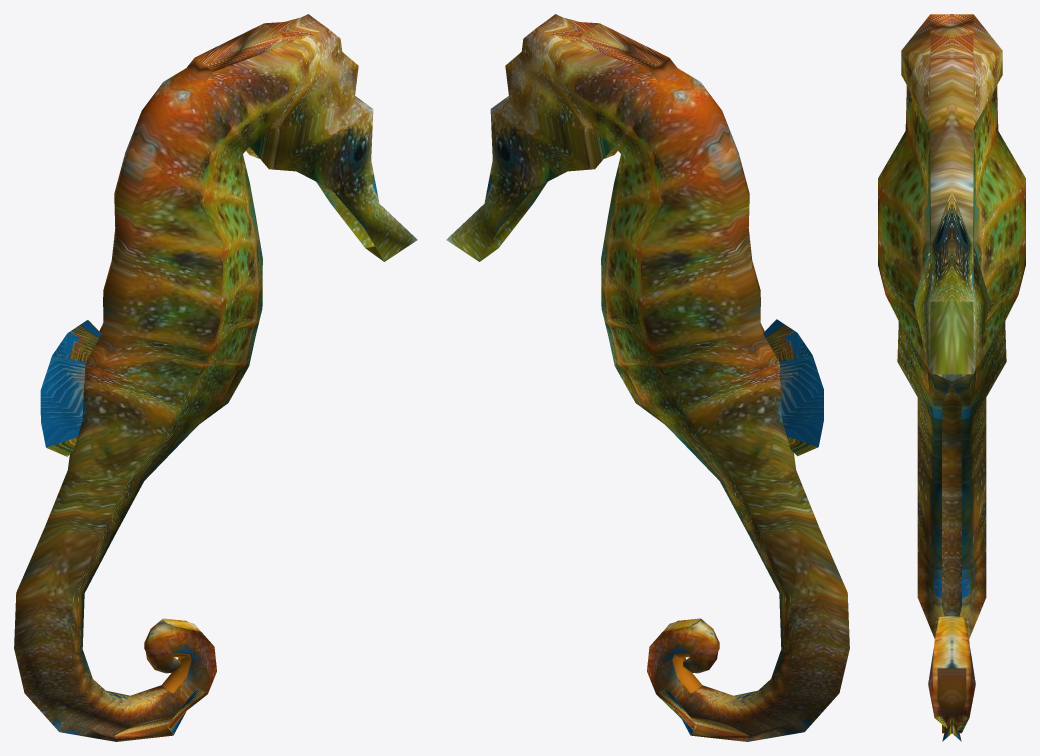
Rendered from CaballitoMar.fbx.
The picture shows the model from 3 angles, left to right: view 1: azimuth 30°, elevation 25°; view 2: azimuth 150°, elevation 25°; view 3: azimuth 270°, elevation 25°; orthographic projection. The views are drawn at different scales.
Visible parts, largest first — view 1: CaballitoMar; view 2: CaballitoMar; view 3: CaballitoMar.
Part boxes in pixels (left/top/right/bottom): CaballitoMar: left=14, top=14, right=417, bottom=741; CaballitoMar: left=446, top=14, right=849, bottom=741; CaballitoMar: left=878, top=14, right=1025, bottom=741.
Size of the model in its own units: 0.3048 by 0.5 by 0.0874.
1 material, 1 textured.
